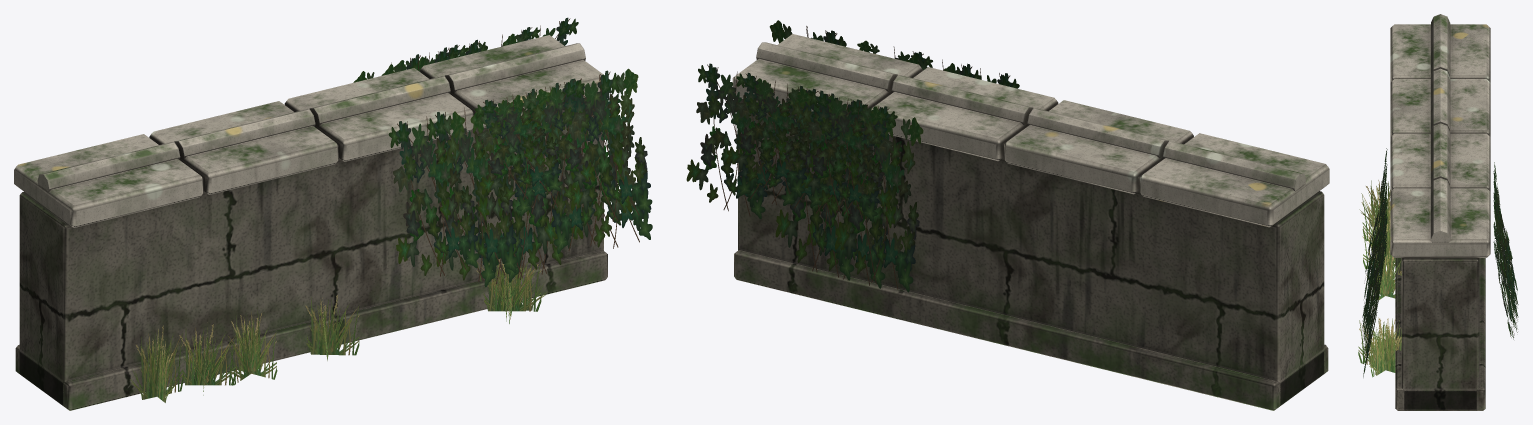
File: LowGardenWall.fbx
3 views of the same model, side by side, from view 1: azimuth 30°, elevation 25°; view 2: azimuth 150°, elevation 25°; view 3: azimuth 270°, elevation 25° (orthographic). The views are drawn at different scales.
Visible parts, largest first — view 1: LowGardenWall_Main, LowGardenWall_Leaves; view 2: LowGardenWall_Main, LowGardenWall_Leaves; view 3: LowGardenWall_Main, LowGardenWall_Leaves.
Boxes of the visible parts, x1,y1,x2,y2 form: LowGardenWall_Main: (14, 35, 609, 410); LowGardenWall_Leaves: (130, 17, 652, 402); LowGardenWall_Main: (732, 34, 1329, 410); LowGardenWall_Leaves: (686, 20, 1019, 292); LowGardenWall_Main: (1390, 14, 1490, 410); LowGardenWall_Leaves: (1358, 148, 1518, 377).
Size of the model in its own units: 846 by 308 by 249.
